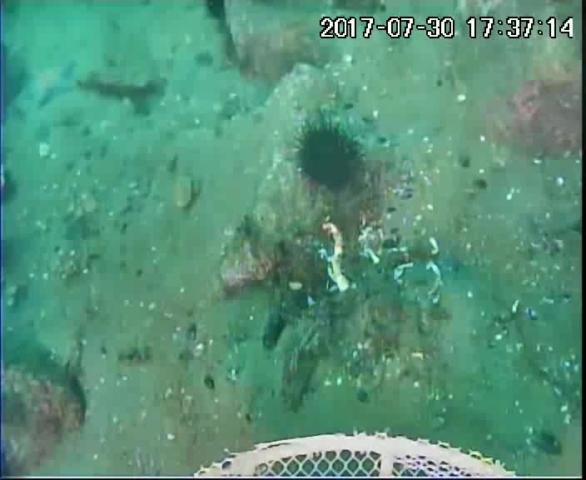echinus: (297, 122, 365, 197)
starfish: (29, 60, 78, 109)
